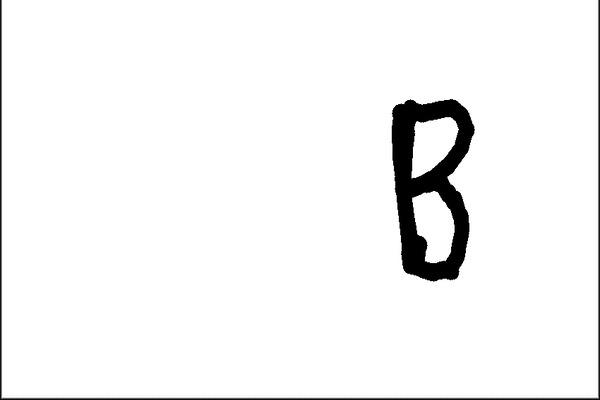B: (383, 90, 482, 287)
